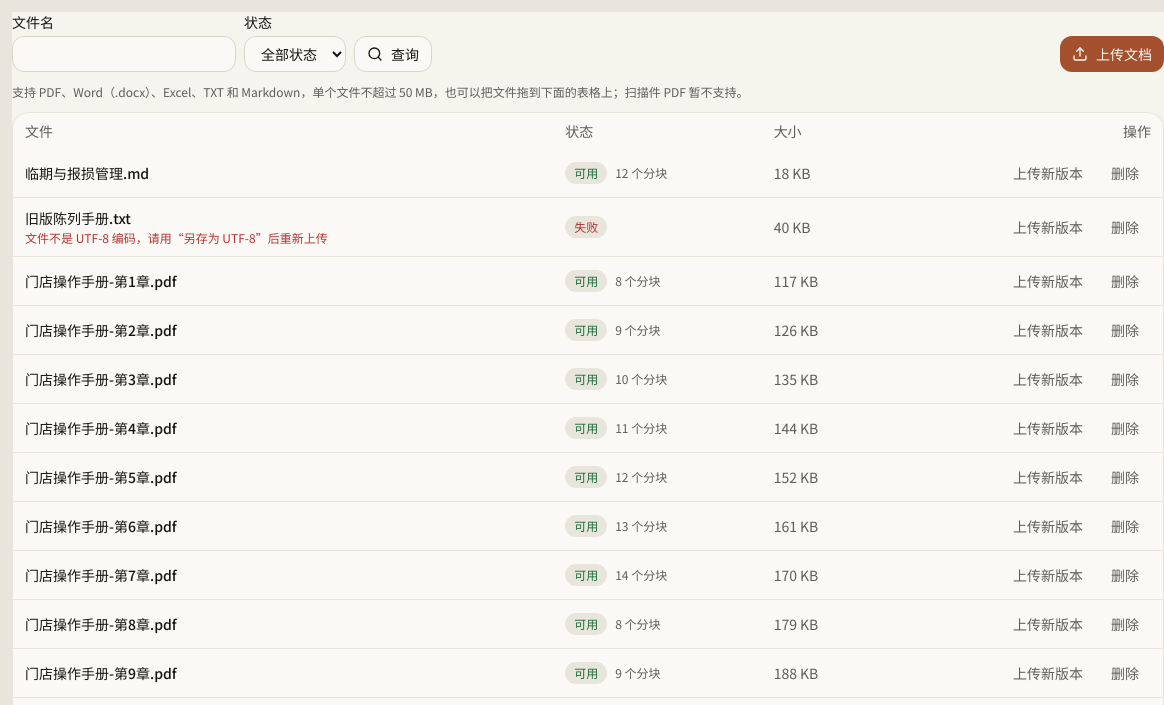
Test: 知识库的文档 › 删除文档要先确认，确认后从列表消失
Click the button with aria-label "删除 临期与报损管理.md" at (1125, 173), box [1099, 155, 1151, 191]
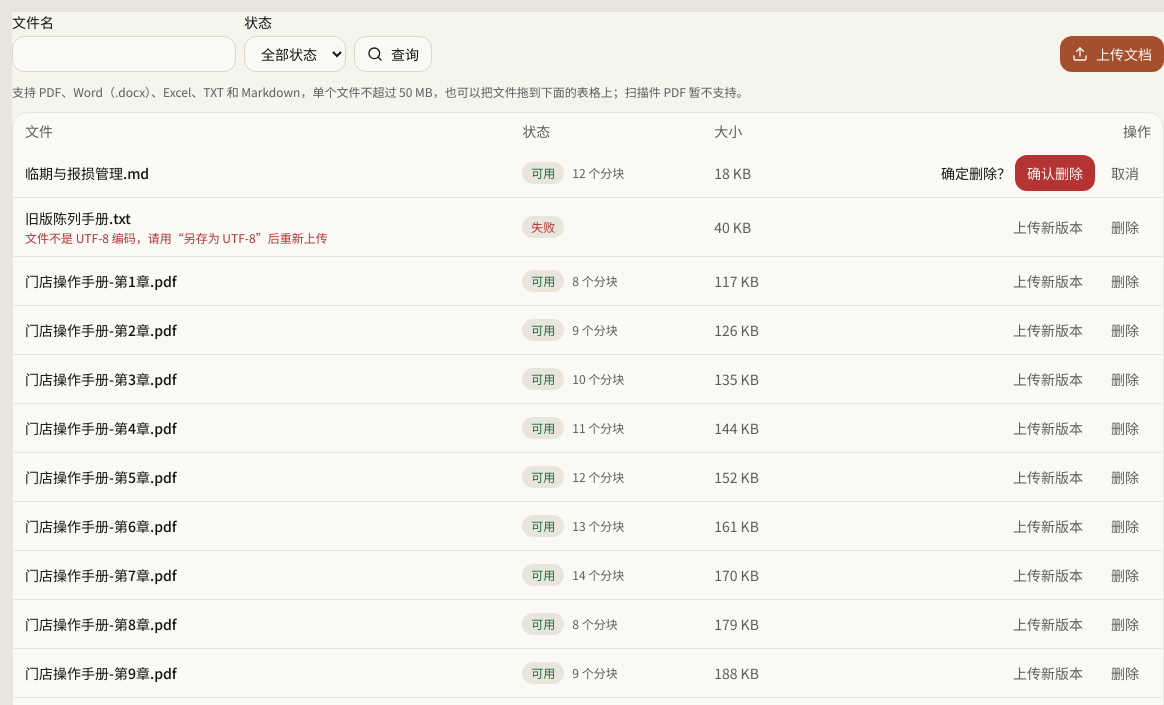
Click the button "确认删除" at (1055, 173), box [1015, 155, 1095, 191]
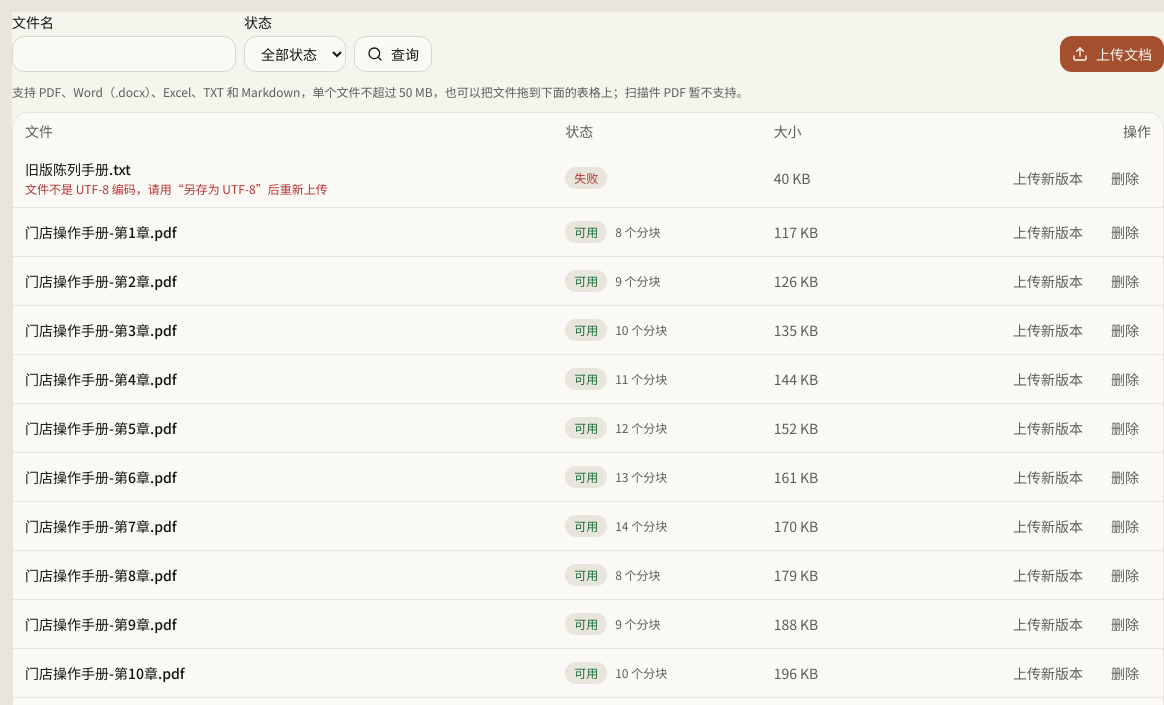
Expected: the text "临期与报损管理.md" is gone
